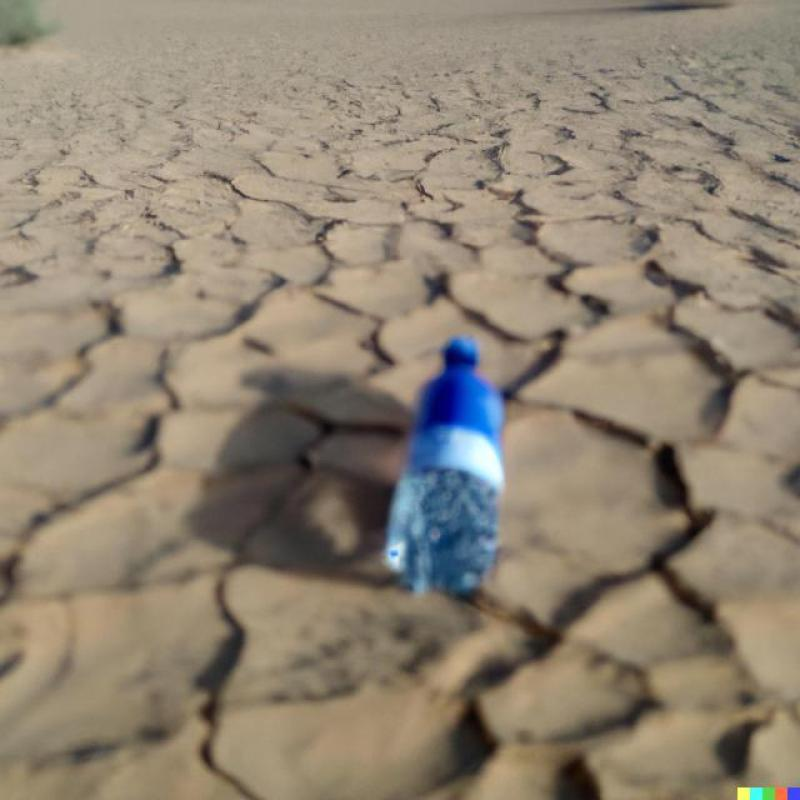botella: (382, 340, 508, 590)
